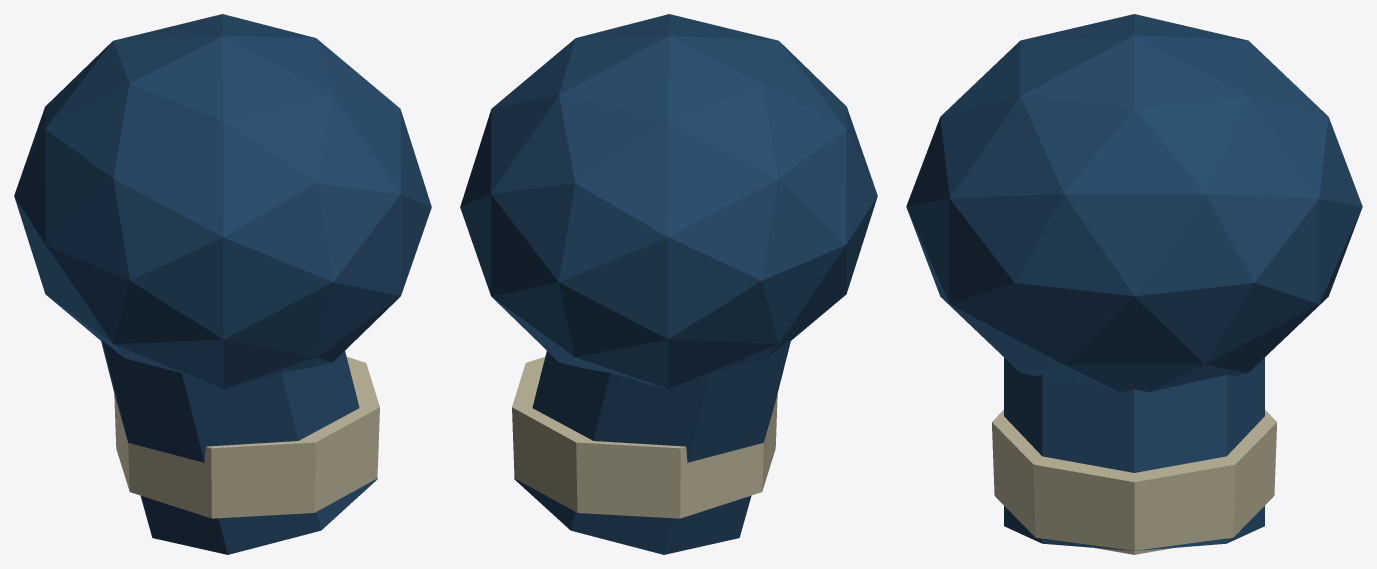
The model's file is ArmRight.glb.
3 renders of one model, left to right at view 1: azimuth 30°, elevation 25°; view 2: azimuth 150°, elevation 25°; view 3: azimuth 270°, elevation 25°, orthographic. The views are drawn at different scales.
Parts seen in each view (by area): view 1: Sculpture; view 2: Sculpture; view 3: Sculpture.
Boxes of the visible parts, <box> form: Sculpture: <box>14,14,431,554</box>; Sculpture: <box>460,14,877,554</box>; Sculpture: <box>906,14,1362,554</box>.
Bounding box in the file's own units: 0.312 × 0.4073 × 0.336.
